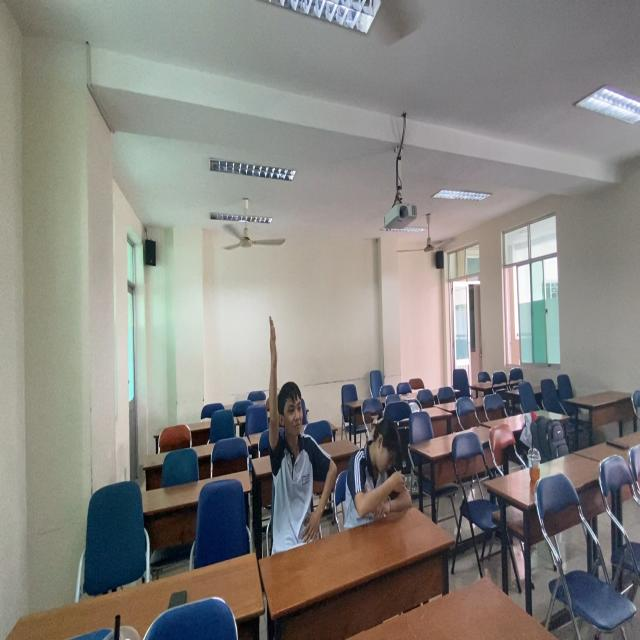raise_hand: (263, 311, 322, 548)
